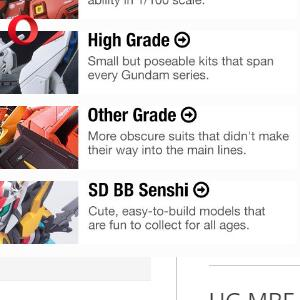opera: (8, 14, 38, 45)
